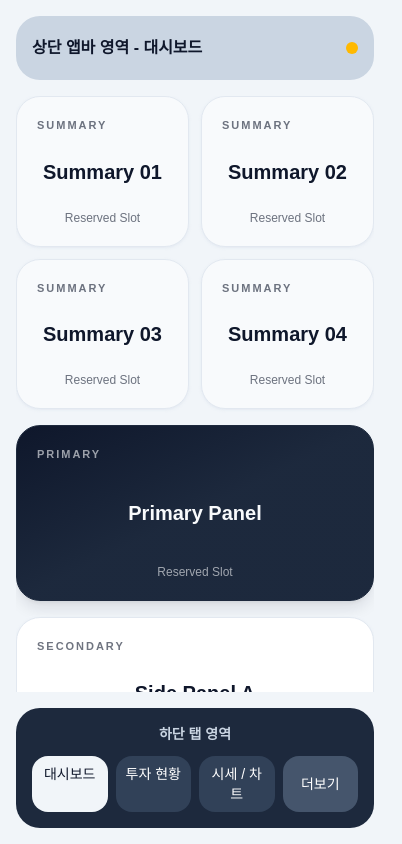
Scenario: App routing › navigates to the settings page when the settings item in more is clicked
Click the button with aria-label "더보기 열기" at [320, 784], box x1=282 y1=756 x2=358 y2=812
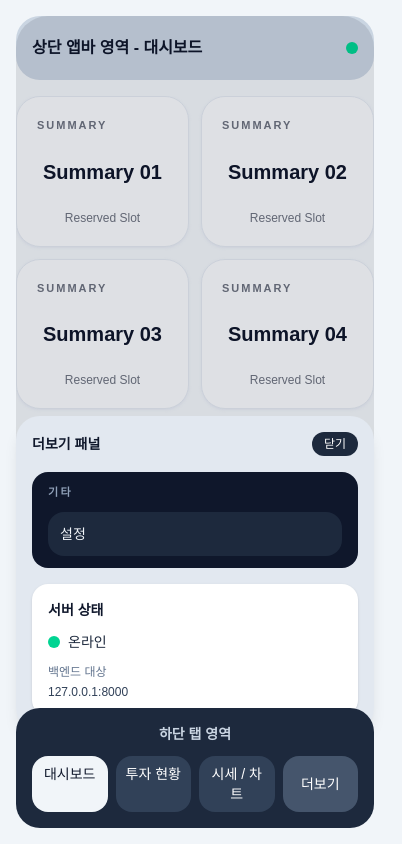
Click the link "설정" at [73, 534], box x1=48 y1=512 x2=342 y2=556
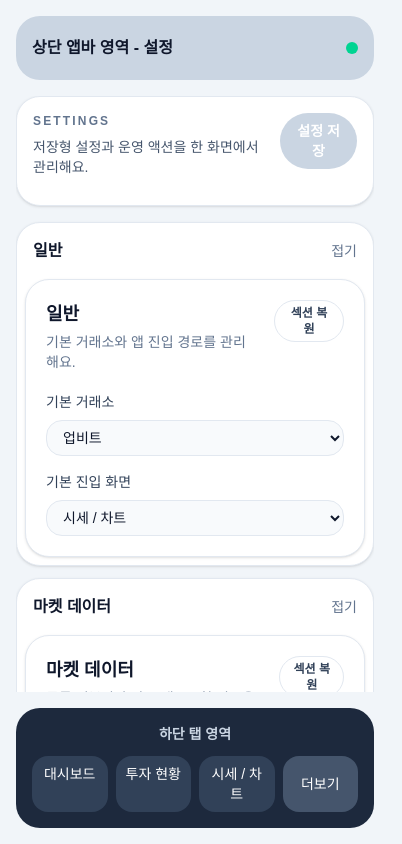
Now the text "상단 앱바 영역 - 설정" is shown, box x1=32 y1=36 x2=173 y2=60
Now the heading "더보기 패널" is gone
